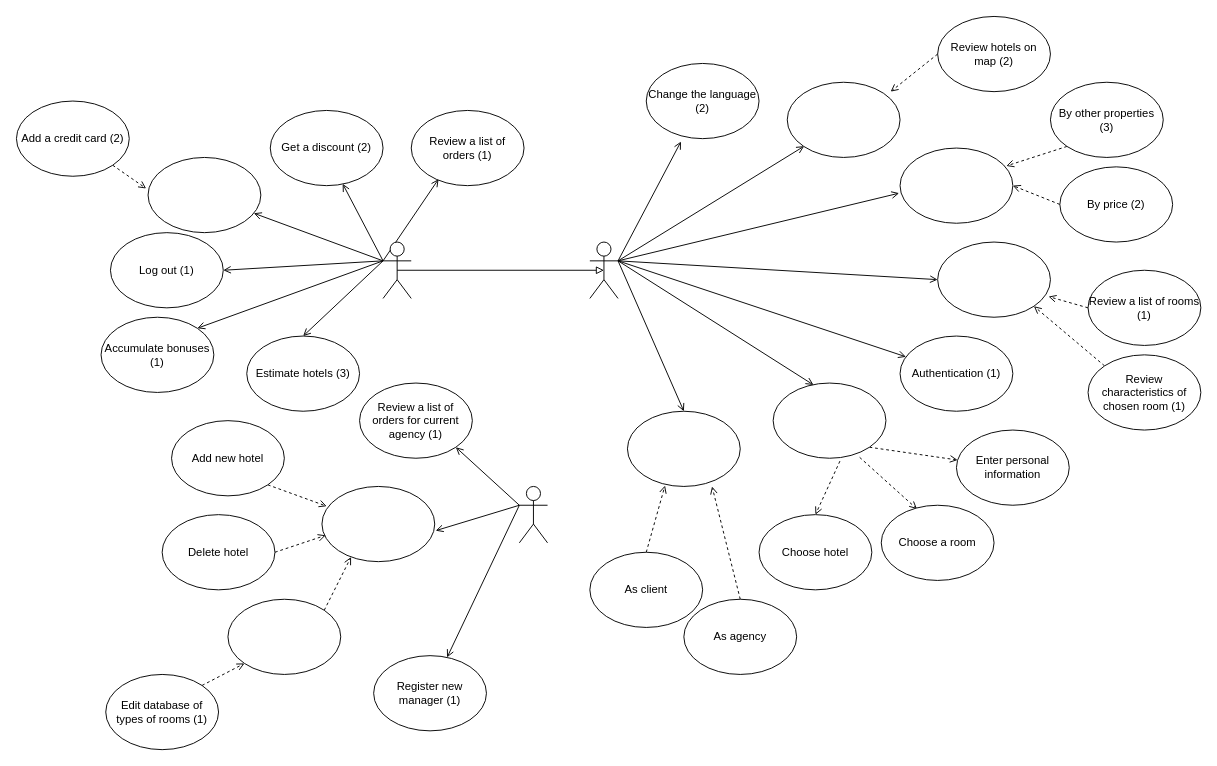
The diagram is 1217 pixels wide and 766 high, and some of its shapes have lost their labels. Here are the shapes that lost their labels. From the top down, the centre of each, then its label:
At (843,119): "Review a list of hotels (1)".
At (204,195): "Edit personal information (1)".
At (956,185): "Sort hotels (2)".
At (396,269): "Client".
At (603,269): "Guest".
At (993,279): "View characteristics of chosen hotel (1)".
At (829,420): "Book hotel (1)".
At (683,448): "Registration (1)".
At (378,524): "Edit database of hotels (1)".
At (533,514): "Manager".
At (284,636): "Edit information about hotel".
